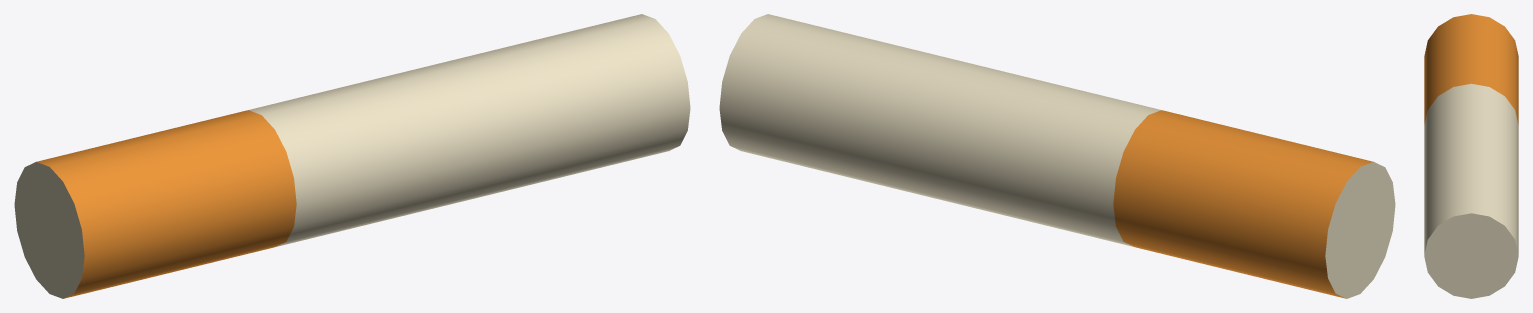
The model's file is Ciggerate.fbx.
3 renders of one model, left to right at view 1: azimuth 30°, elevation 25°; view 2: azimuth 150°, elevation 25°; view 3: azimuth 270°, elevation 25°, orthographic. The views are drawn at different scales.
Visible parts, largest first — view 1: Ciggerate; view 2: Ciggerate; view 3: Ciggerate.
Part boxes in pixels (left/top/right/bottom): Ciggerate: left=14, top=14, right=690, bottom=298; Ciggerate: left=719, top=14, right=1395, bottom=298; Ciggerate: left=1424, top=14, right=1518, bottom=298.
Size of the model in its own units: 18.16 by 3.64 by 3.64.
